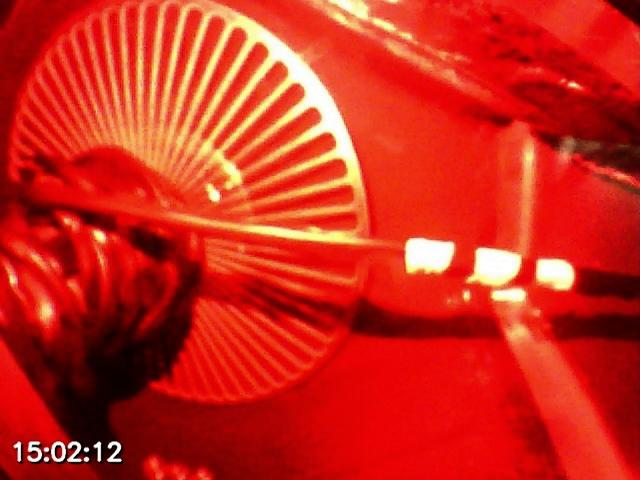white-dots: (404, 237, 575, 292)
